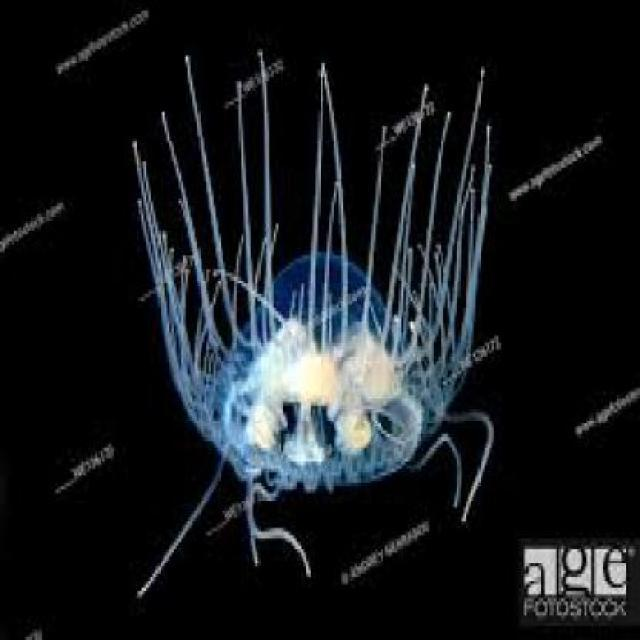Jellyfish: (124, 38, 498, 594)
